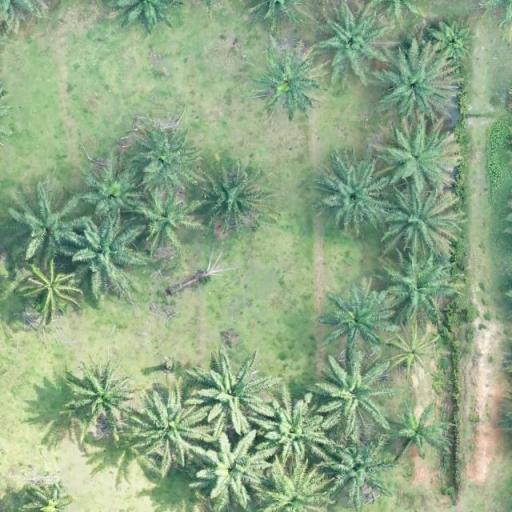Ganoderma: (263, 58, 315, 104), (26, 266, 73, 310), (391, 329, 435, 373)
